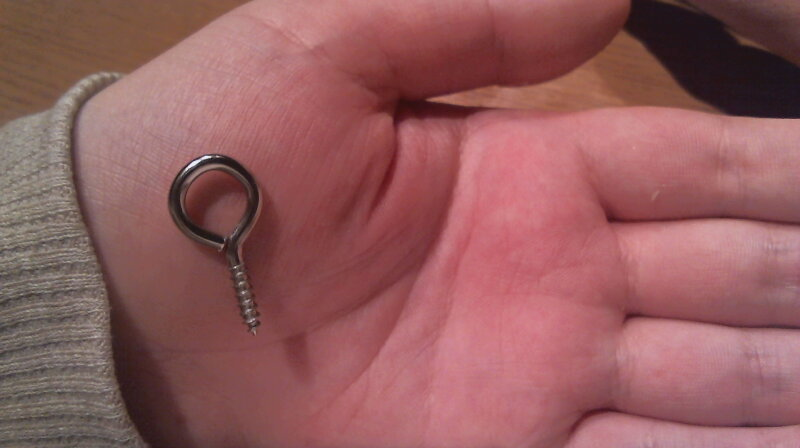O001: (160, 150, 267, 343)
